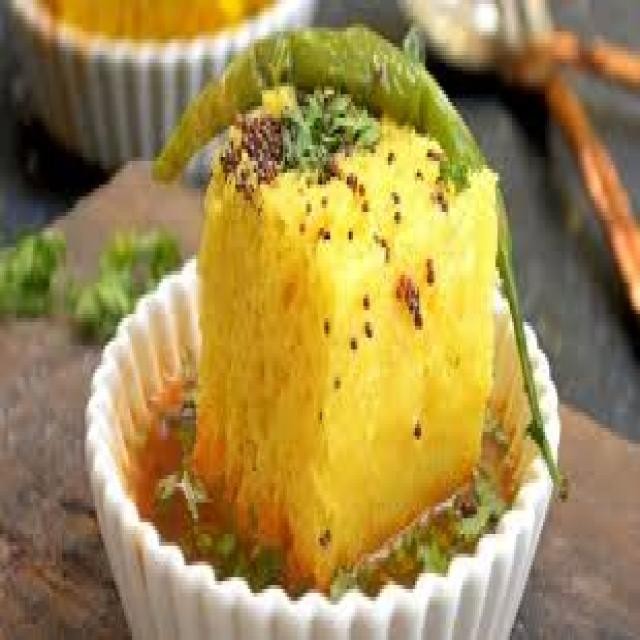DHOKLA: (194, 86, 493, 585)
